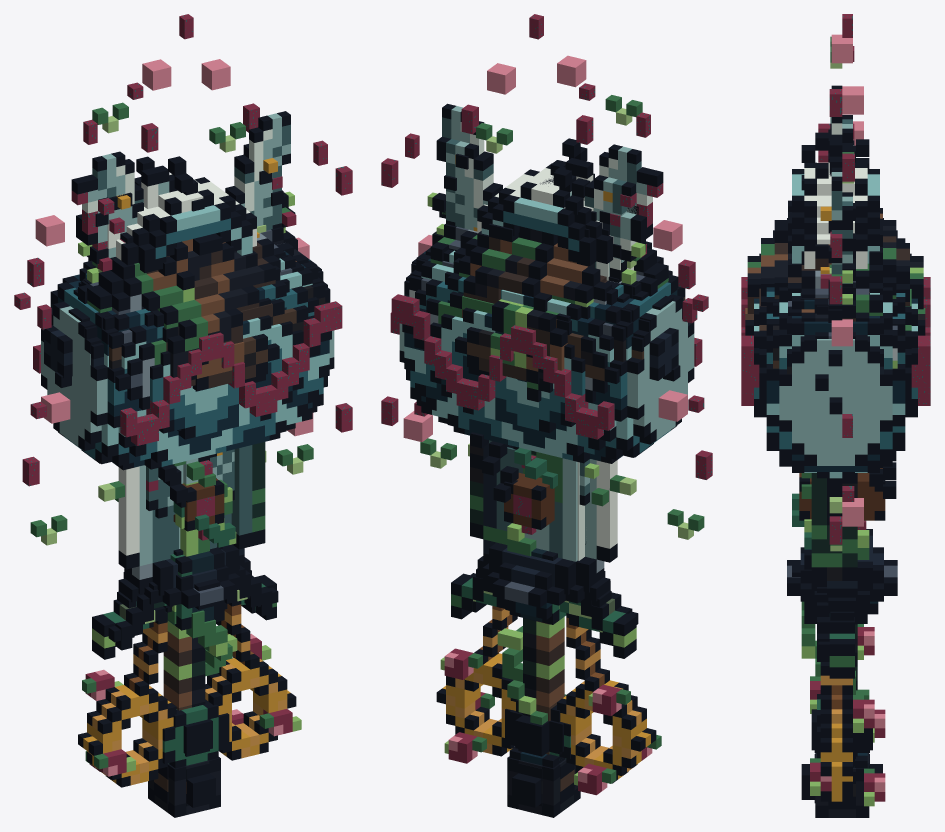
Rendered from weapons_floor2.glb.
The picture shows the model from 3 angles, left to right: view 1: azimuth 30°, elevation 25°; view 2: azimuth 150°, elevation 25°; view 3: azimuth 270°, elevation 25°; orthographic projection.
Parts seen in each view (by area): view 1: W_tidal_hammer, W_gardener_shears, W_root_hammer, W_garden_machete, W_thorn_blade, W_mud_mallet, G1_tidal_hammer, W_reaper_blade, W_reed_saber, G2_tidal_hammer, G1_reaper_blade, G2_gardener_shears (+2 smaller); view 2: W_tidal_hammer, W_gardener_shears, W_root_hammer, W_garden_machete, W_mud_mallet, G1_tidal_hammer, W_reaper_blade, W_thorn_blade, W_reed_saber, G2_tidal_hammer, G1_reaper_blade, G2_gardener_shears (+1 smaller); view 3: W_tidal_hammer, W_root_hammer, W_gardener_shears, W_garden_machete, W_thorn_blade, W_mud_mallet, G1_tidal_hammer, W_reed_saber, G2_tidal_hammer, W_reaper_blade, G1_reaper_blade, G2_gardener_shears.
Part boxes in pixels (x1,y1,x2,y2): W_tidal_hammer: (41, 174, 334, 470); W_gardener_shears: (35, 59, 313, 787); W_root_hammer: (44, 156, 308, 817); W_garden_machete: (118, 442, 265, 754); W_thorn_blade: (92, 165, 276, 768); W_mud_mallet: (50, 238, 331, 806); G1_tidal_hammer: (22, 117, 352, 486); W_reaper_blade: (30, 102, 313, 646); W_reed_saber: (90, 192, 250, 756); G2_tidal_hammer: (22, 103, 352, 474); G1_reaper_blade: (14, 82, 282, 540); G2_gardener_shears: (37, 14, 327, 516); W_tidal_hammer: (399, 163, 694, 767); W_gardener_shears: (403, 55, 687, 795); W_root_hammer: (425, 138, 678, 817); W_garden_machete: (470, 436, 617, 754); W_mud_mallet: (402, 248, 690, 806); G1_tidal_hammer: (381, 118, 712, 479); W_reaper_blade: (420, 95, 704, 645); W_thorn_blade: (451, 158, 636, 763); W_reed_saber: (477, 205, 645, 756); G2_tidal_hammer: (381, 104, 712, 468); G1_reaper_blade: (414, 83, 708, 534); G2_gardener_shears: (390, 14, 695, 517); W_tidal_hammer: (754, 162, 917, 767); W_root_hammer: (747, 132, 923, 817); W_gardener_shears: (799, 34, 885, 806); W_garden_machete: (811, 473, 872, 756); W_thorn_blade: (792, 134, 867, 767); W_mud_mallet: (745, 218, 925, 809); G1_tidal_hammer: (741, 105, 930, 544); W_reed_saber: (787, 129, 897, 758); G2_tidal_hammer: (741, 89, 930, 532); W_reaper_blade: (818, 36, 878, 655); G1_reaper_blade: (818, 46, 866, 529); G2_gardener_shears: (831, 14, 852, 428).
Bounding box in the file's own units: 3.1 × 7.11 × 1.54.
1 material, 1 textured.
